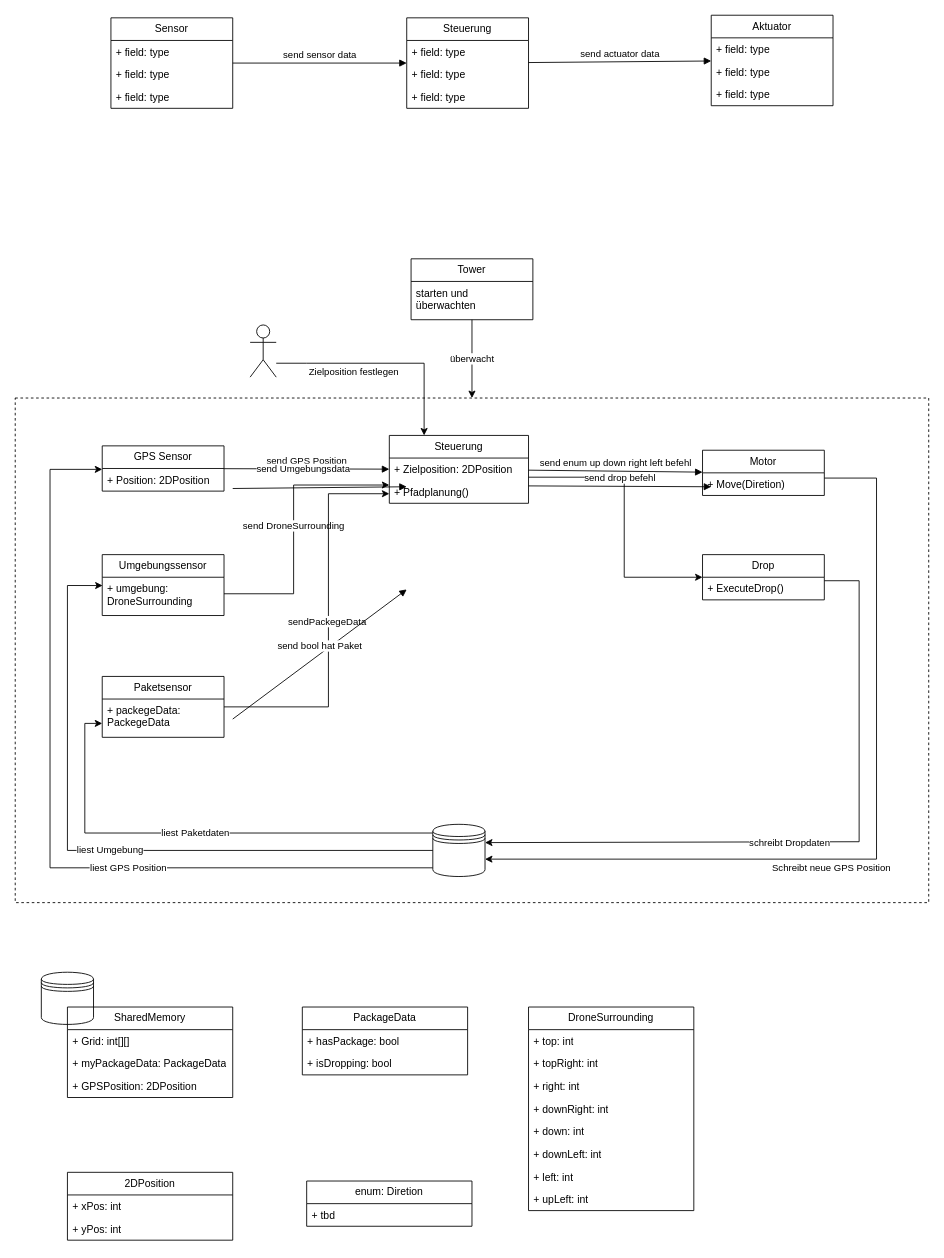
This 944x1258 diagram has some shape labels left out. Here are the shapes that lost their labels. From the top down, the centre of each, then its label:
the point at 262,350: Actor
the point at 458,850: Shared Memory
